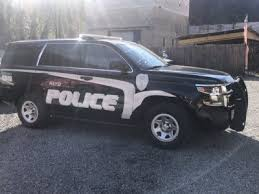special: (1, 33, 249, 151)
